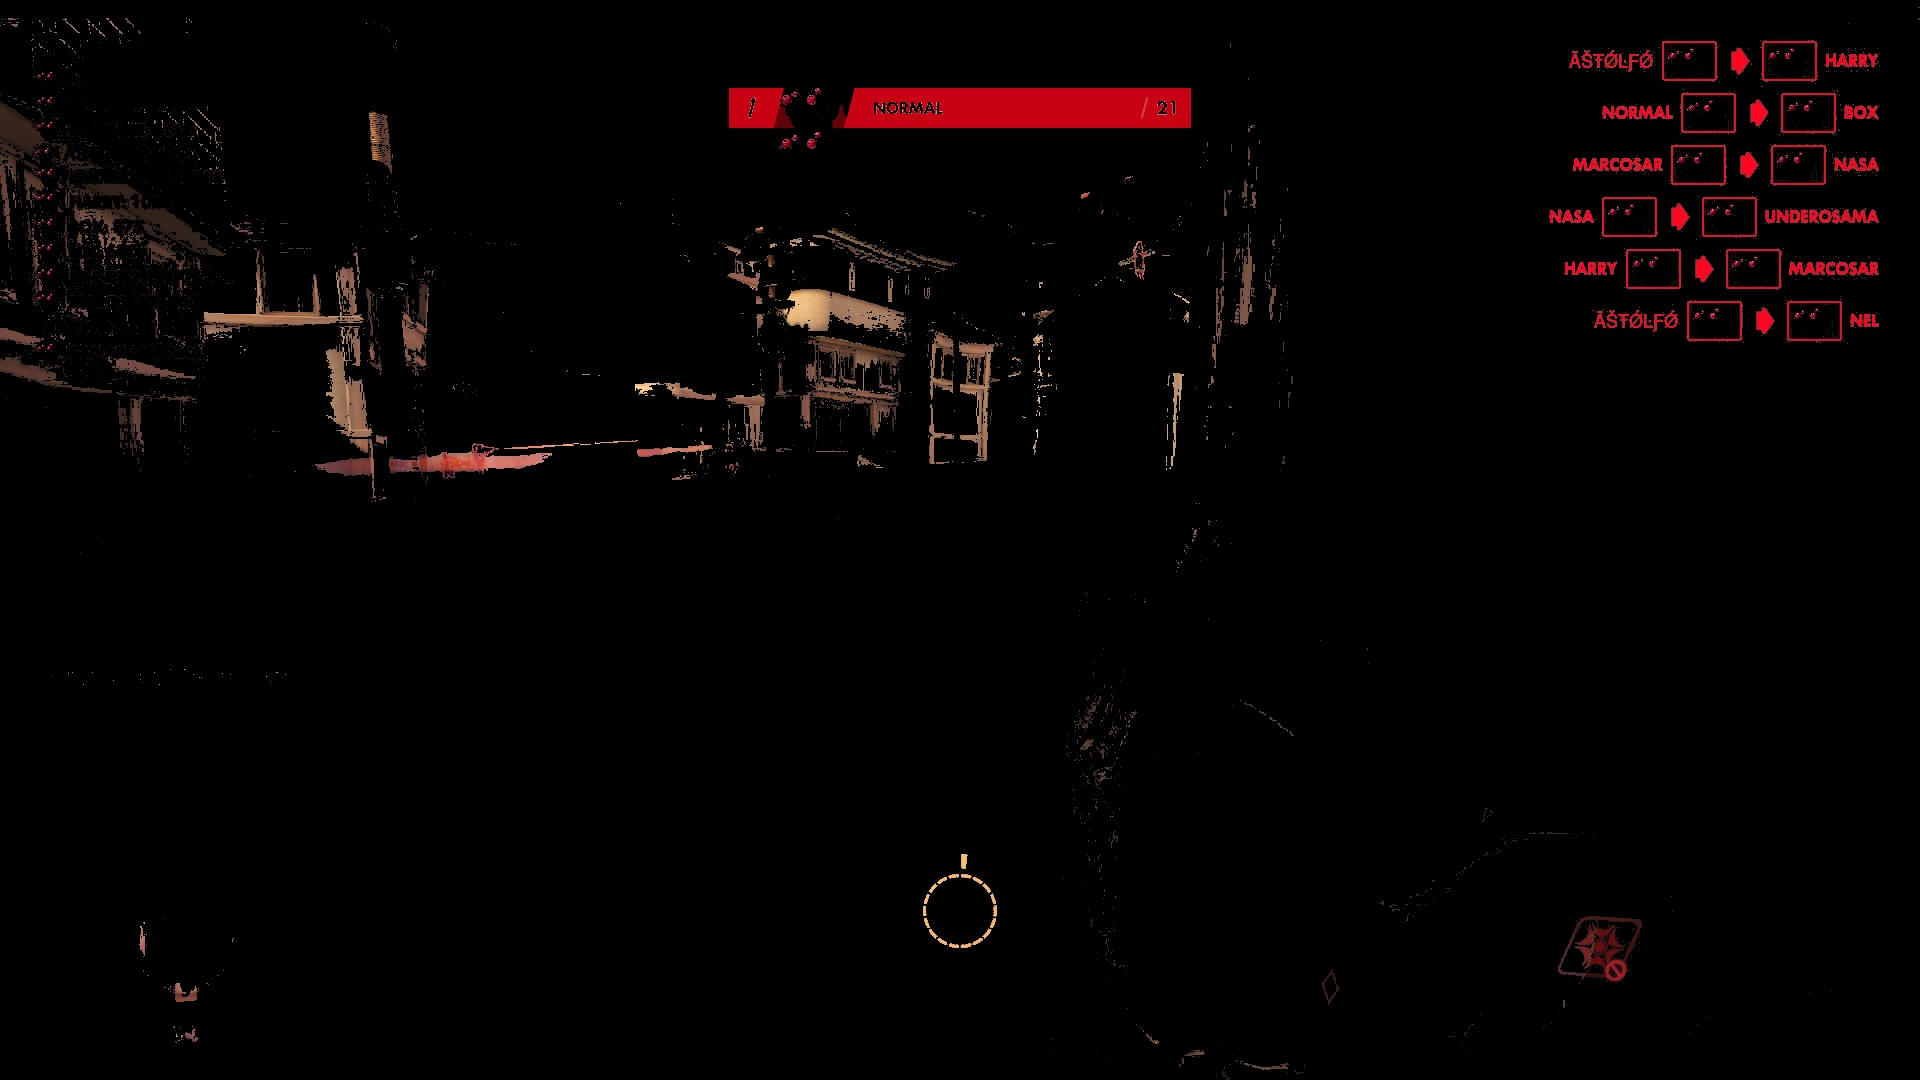widowmaker: (471, 443, 498, 481), (1129, 233, 1149, 284), (439, 450, 462, 481)
